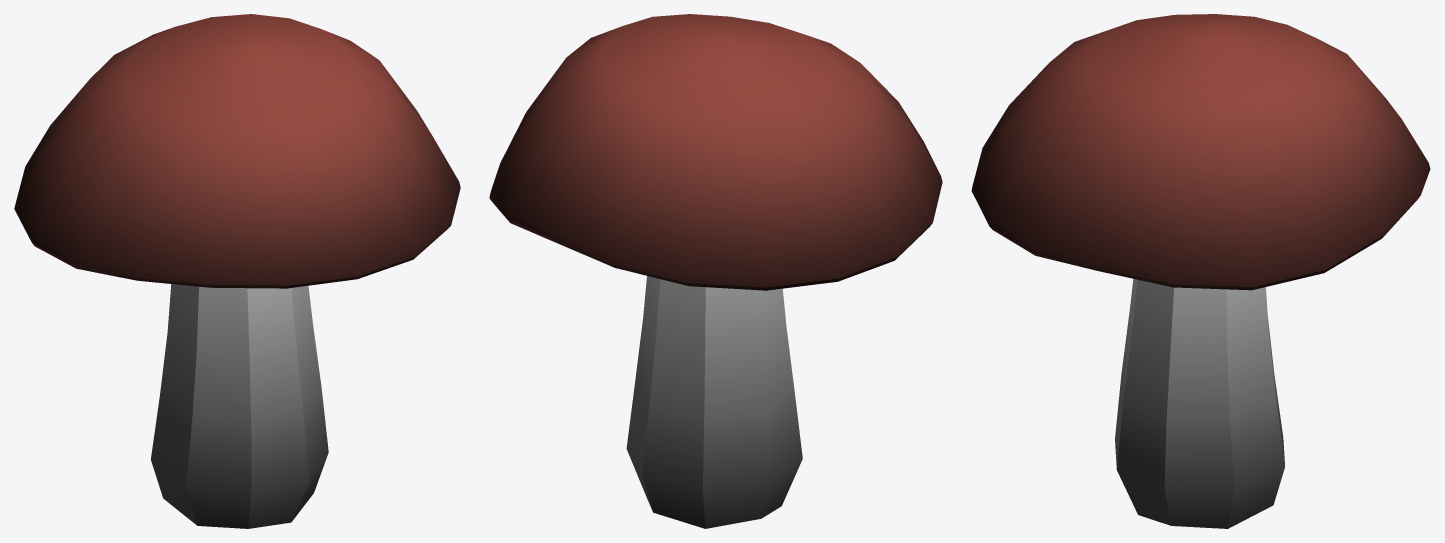
Rendered from mushroom2.fbx.
The picture shows the model from 3 angles, left to right: view 1: azimuth 30°, elevation 25°; view 2: azimuth 150°, elevation 25°; view 3: azimuth 270°, elevation 25°; orthographic projection. The views are drawn at different scales.
Visible parts, largest first — view 1: mushroom12; view 2: mushroom12; view 3: mushroom12.
Part boxes in pixels (<box>): mushroom12: <box>14,14,460,528</box>; mushroom12: <box>489,14,942,528</box>; mushroom12: <box>971,14,1430,528</box>.
Size of the model in its own units: 75.68 by 89.03 by 76.16.
